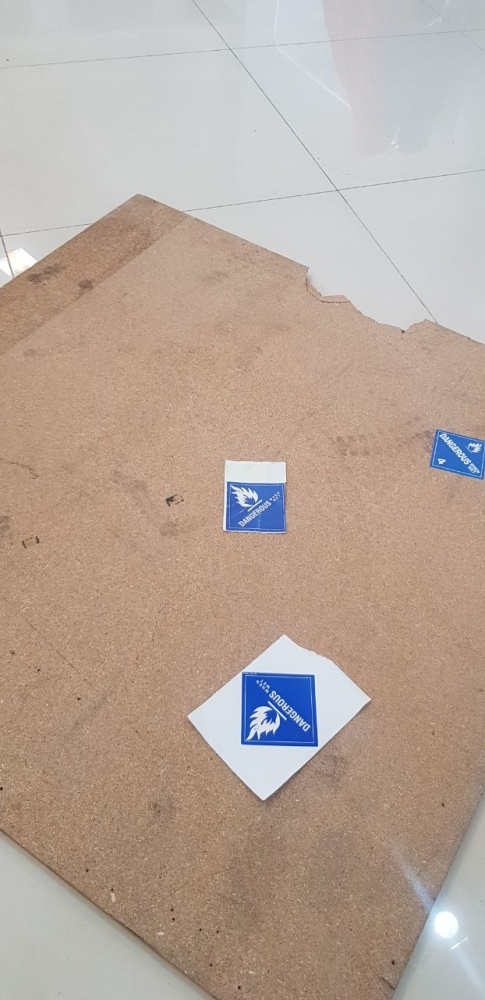Dangerous when wet: (241, 673, 318, 747), (226, 482, 286, 533), (430, 430, 485, 479)
